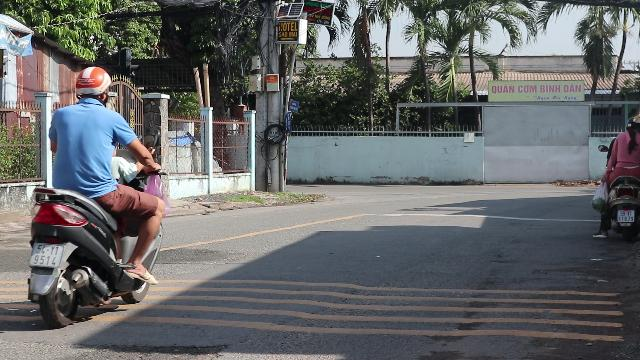helmet: (71, 65, 111, 105), (626, 112, 640, 132)
licenseplate: (30, 243, 64, 268), (618, 210, 634, 222)
motorcyclist: (18, 63, 168, 324), (590, 110, 638, 241)
